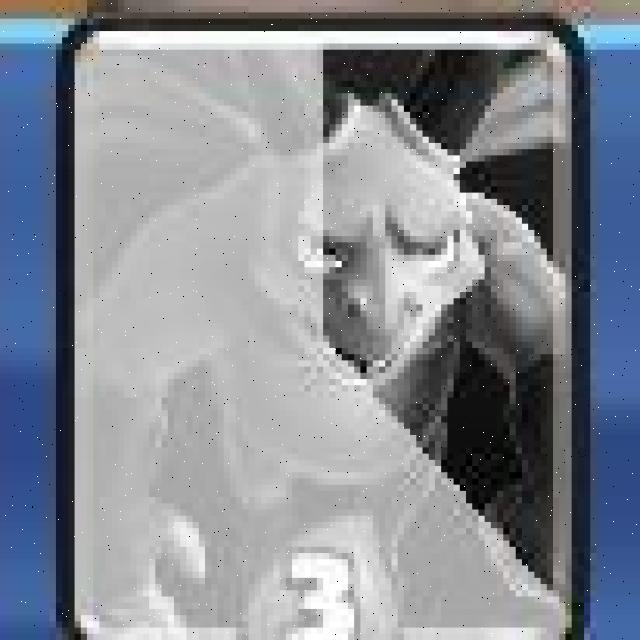Minions: (62, 25, 576, 640)
